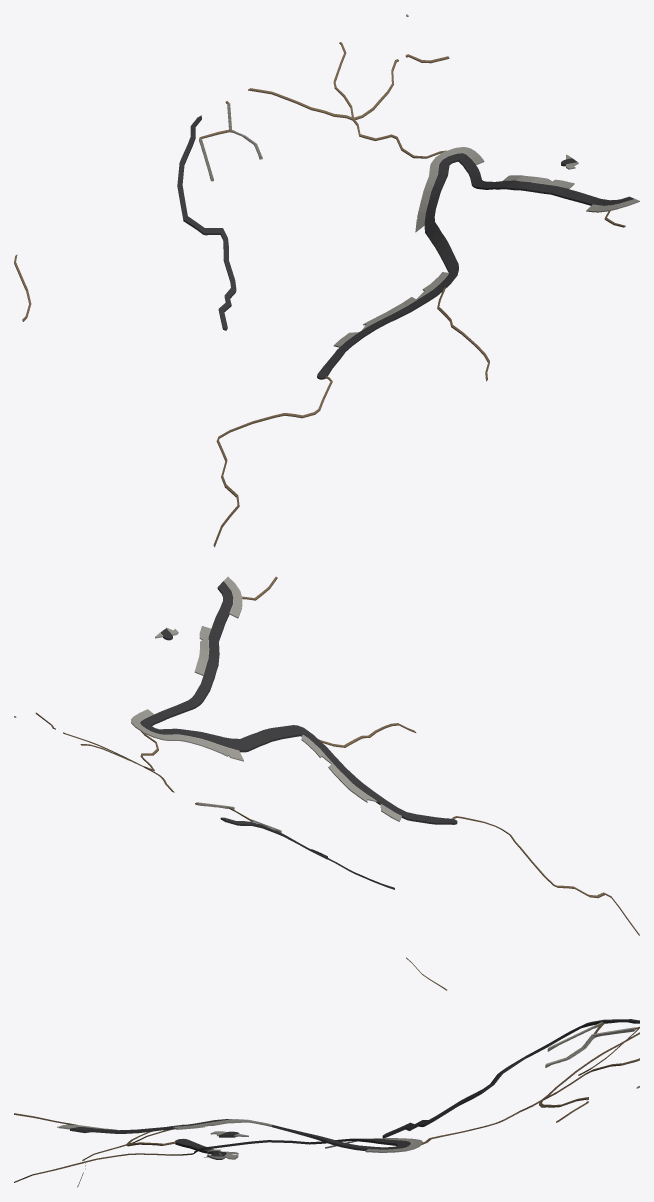
The picture shows the model from 3 angles, top to bottom: view 1: azimuth 30°, elevation 25°; view 2: azimuth 150°, elevation 25°; view 3: azimuth 270°, elevation 25°; orthographic projection. The views are drawn at different scales.
Bounding box in the file's own units: 293 × 186 × 292.
